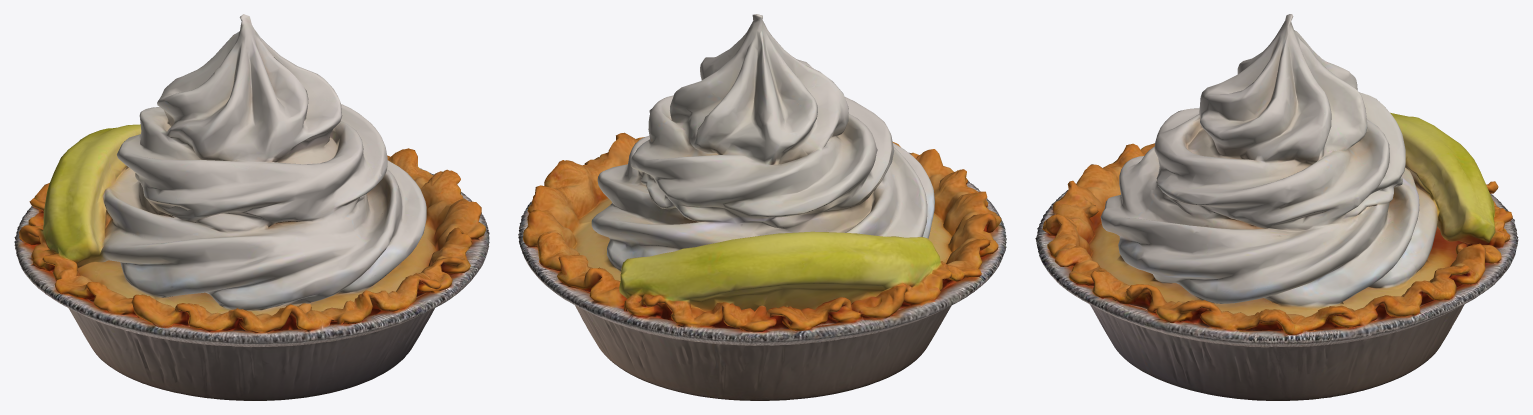
File: pie.glb
3 views of the same model, side by side, from view 1: azimuth 30°, elevation 25°; view 2: azimuth 150°, elevation 25°; view 3: azimuth 270°, elevation 25° (orthographic). The views are drawn at different scales.
Parts seen in each view (by area): view 1: tripo_node_81c93bc9-98dc-459e-9dfd-def544d8f7f0; view 2: tripo_node_81c93bc9-98dc-459e-9dfd-def544d8f7f0; view 3: tripo_node_81c93bc9-98dc-459e-9dfd-def544d8f7f0.
Part boxes in pixels (x1,y1,x2,y2): tripo_node_81c93bc9-98dc-459e-9dfd-def544d8f7f0: (14,14,489,400); tripo_node_81c93bc9-98dc-459e-9dfd-def544d8f7f0: (518,14,1006,400); tripo_node_81c93bc9-98dc-459e-9dfd-def544d8f7f0: (1035,14,1518,400).
Bounding box in the file's own units: 0.9804 × 0.7074 × 0.9793.
Materials: 1 (1 with a texture image).
